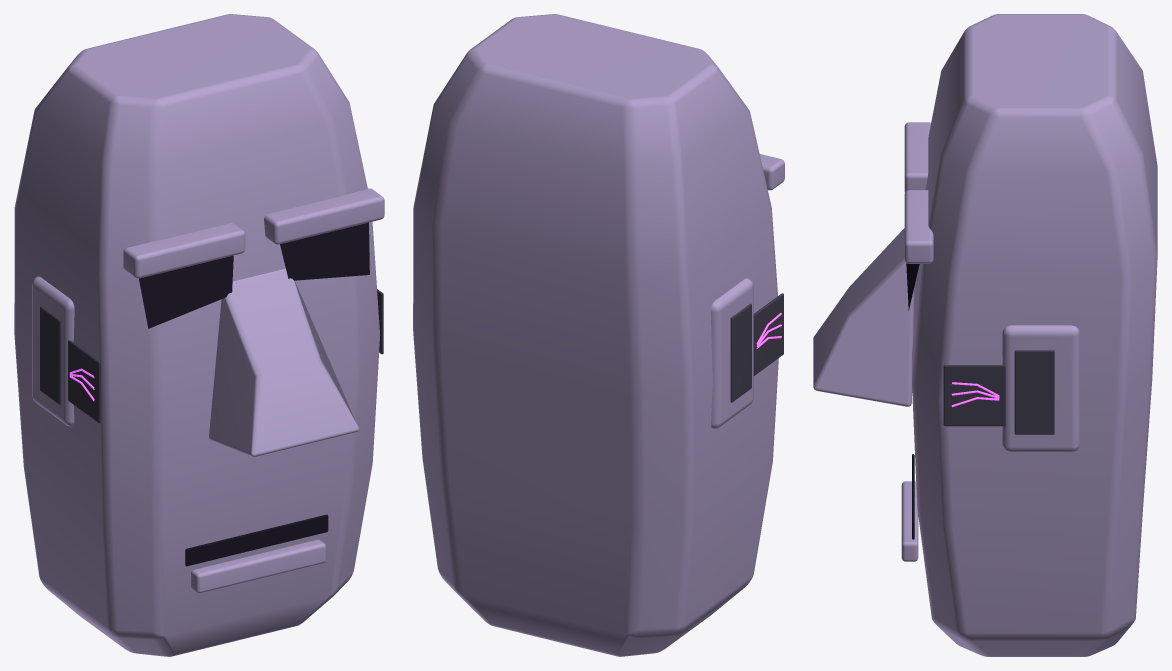
The model's file is moyai.glb.
The picture shows the model from 3 angles, left to right: view 1: azimuth 30°, elevation 25°; view 2: azimuth 150°, elevation 25°; view 3: azimuth 270°, elevation 25°; orthographic projection.
Parts seen in each view (by area): view 1: Moyai | monolithic head, Moyai | chamfered nose, Moyai | recessed obsidian eye, Moyai | brow ridge, Moyai | brow ridge.001, Moyai | recessed obsidian eye.001, Moyai | lower lip, Moyai | ear, Moyai | mouth inset, Moyai | maker badge, Moyai | ear inset; view 2: Moyai | monolithic head, Moyai | ear, Moyai | ear inset, Moyai | maker badge, Moyai | brow ridge; view 3: Moyai | monolithic head, Moyai | chamfered nose, Moyai | ear.001, Moyai | maker badge.001, Moyai | ear inset.001, Moyai | brow ridge.001, Moyai | brow ridge, Moyai | lower lip.
Part boxes in pixels (bbox=[...]): Moyai | monolithic head: bbox=[14, 14, 379, 656]; Moyai | chamfered nose: bbox=[209, 268, 359, 456]; Moyai | recessed obsidian eye: bbox=[139, 255, 233, 328]; Moyai | brow ridge: bbox=[123, 223, 245, 278]; Moyai | brow ridge.001: bbox=[264, 188, 384, 244]; Moyai | recessed obsidian eye.001: bbox=[280, 222, 369, 280]; Moyai | lower lip: bbox=[191, 539, 325, 593]; Moyai | ear: bbox=[32, 276, 74, 426]; Moyai | mouth inset: bbox=[185, 514, 328, 566]; Moyai | maker badge: bbox=[68, 340, 100, 423]; Moyai | ear inset: bbox=[40, 306, 61, 404]; Moyai | monolithic head: bbox=[413, 14, 778, 656]; Moyai | ear: bbox=[710, 278, 753, 428]; Moyai | ear inset: bbox=[730, 303, 751, 402]; Moyai | maker badge: bbox=[753, 293, 783, 375]; Moyai | brow ridge: bbox=[759, 154, 784, 190]; Moyai | monolithic head: bbox=[912, 14, 1157, 656]; Moyai | chamfered nose: bbox=[813, 228, 914, 406]; Moyai | ear.001: bbox=[1002, 325, 1079, 452]; Moyai | maker badge.001: bbox=[943, 365, 1005, 426]; Moyai | ear inset.001: bbox=[1014, 350, 1054, 434]; Moyai | brow ridge.001: bbox=[904, 190, 933, 263]; Moyai | brow ridge: bbox=[904, 122, 930, 192]; Moyai | lower lip: bbox=[901, 481, 918, 561].
Bounding box in the file's own units: 1.85 × 3.36 × 1.89.
